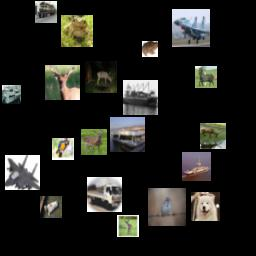airplane: (172, 9, 210, 47), (5, 155, 40, 190)
bird: (148, 188, 186, 226), (52, 138, 74, 160)
cat: (40, 196, 62, 218)
deer: (45, 65, 80, 100), (85, 61, 117, 93), (81, 129, 107, 155), (200, 123, 226, 149), (117, 215, 139, 237)
dog: (191, 192, 220, 221)
frog: (61, 15, 93, 47), (142, 41, 158, 57)
ship: (123, 80, 158, 115), (110, 117, 145, 152), (182, 152, 211, 181), (2, 85, 21, 104)
truck: (87, 177, 122, 212), (35, 1, 57, 23)
